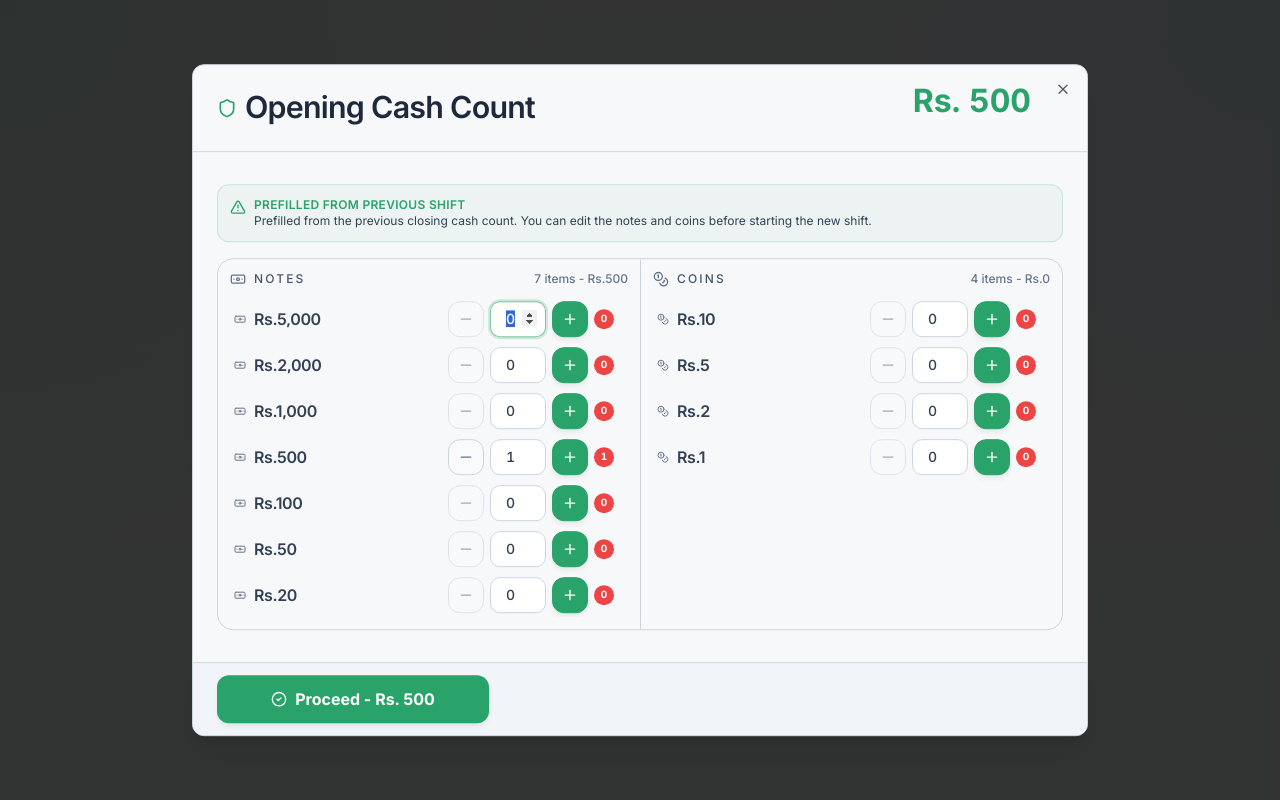
Test: OpeningCashDialog › keeps non-essential informational text out of the confirm popup
The width and height of the screenshot is (1280, 800).
Expected: the text "Prefilled from previous shift" is shown, x1=254 y1=197 x2=466 y2=212
Click the button "Proceed - Rs. 500": (353, 699) x1=217 y1=675 x2=489 y2=723
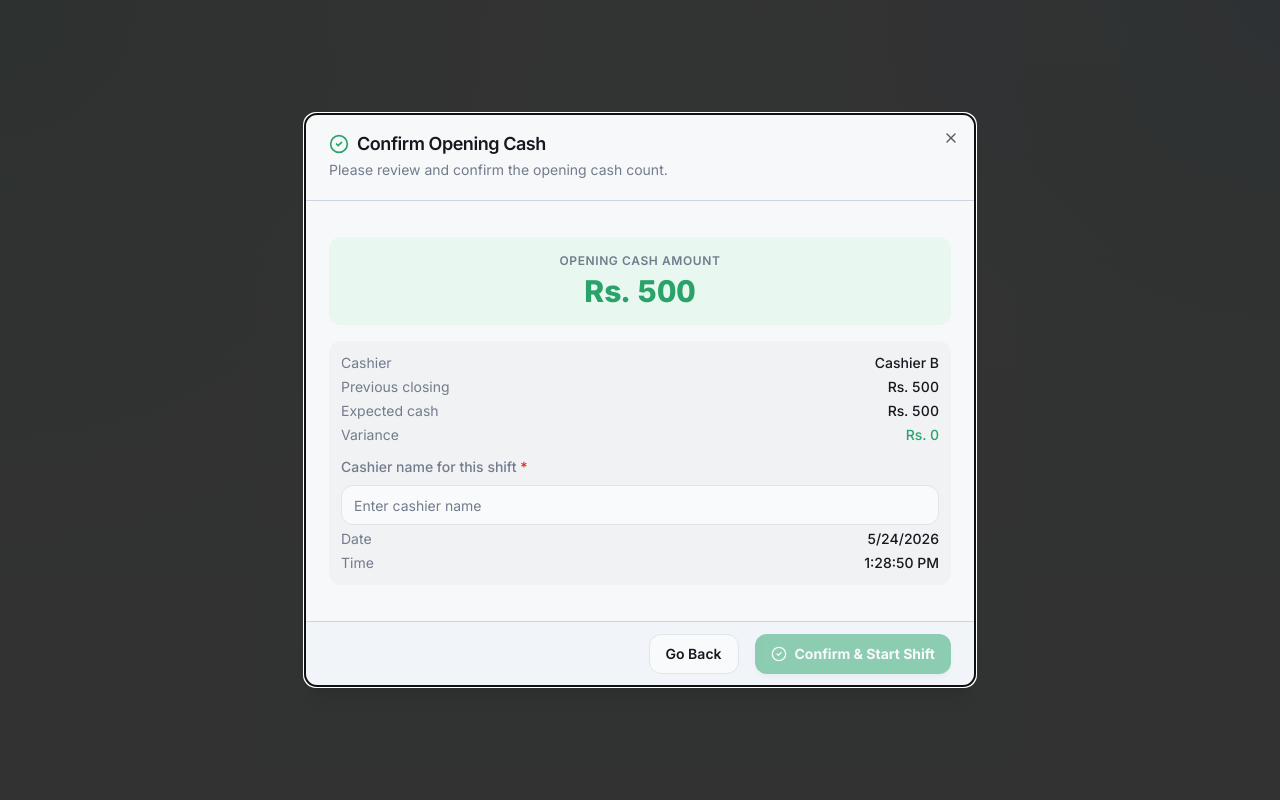
Expected: the heading "Confirm Opening Cash" is shown, x1=329 y1=133 x2=546 y2=154
Expected: the text "Opening Cash Amount" is shown, x1=560 y1=253 x2=720 y2=268
Expected: the text "Prefilled from the previous closing cash count. You can edit the notes and coins before starting the new shift." is gone
